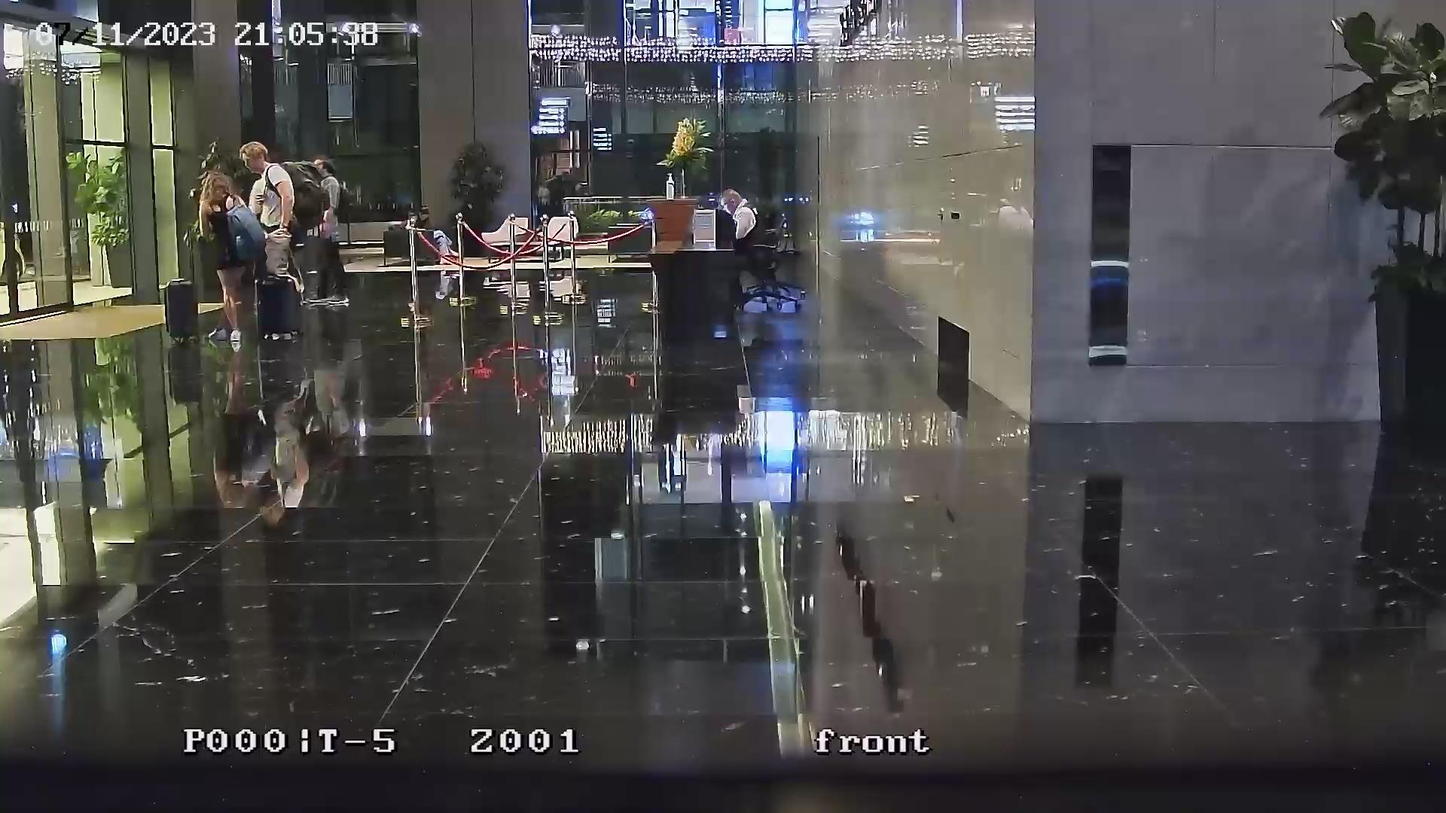person: (195, 169, 267, 349), (239, 139, 303, 299), (287, 154, 350, 309), (720, 188, 772, 253), (408, 204, 460, 265)
